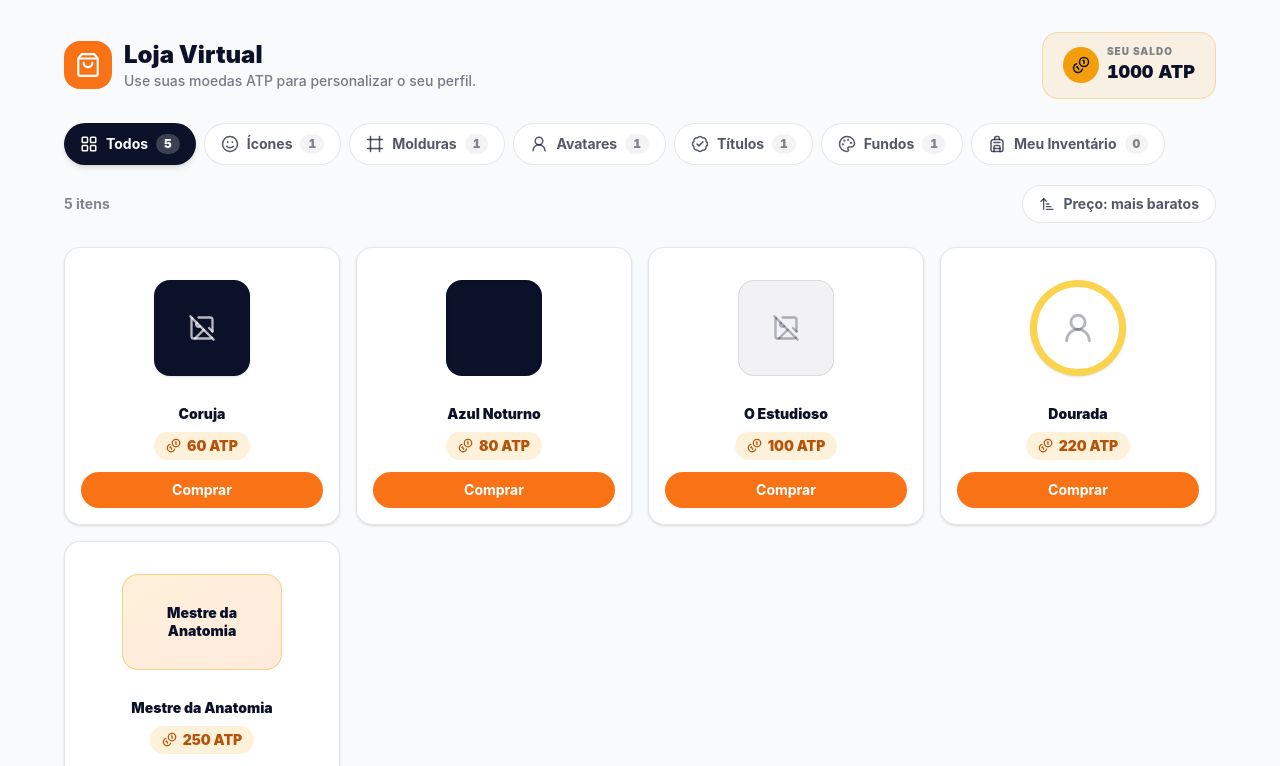
Test: LojaPage › troca de categoria ao clicar na aba Molduras
Expected: the heading "Coruja" is shown, [179,404,226,424]
Step 1. Click the button "Molduras 1" → (427, 144), box [349,122,505,164]
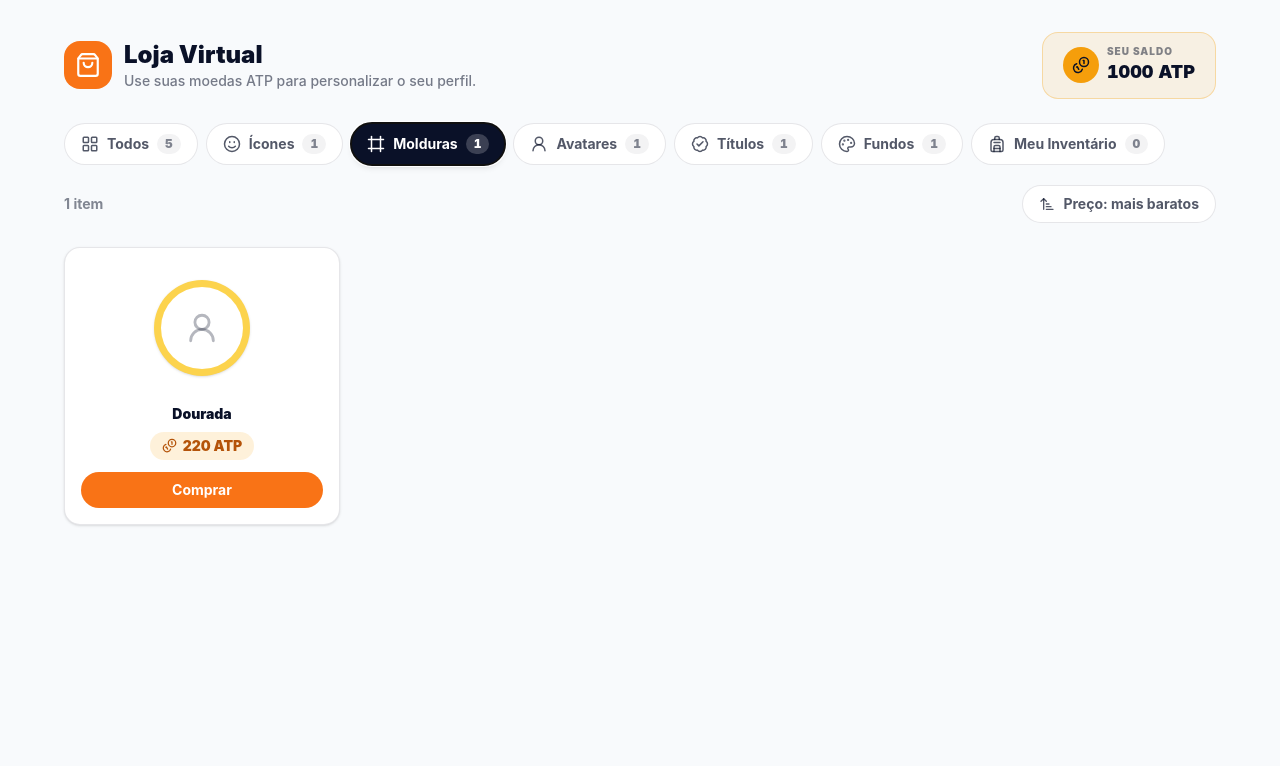
Expected: the heading "Dourada" is shown, [172,404,232,424]
Now the heading "Coruja" is gone
